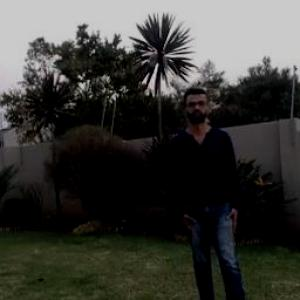follow: (163, 61, 254, 299)
